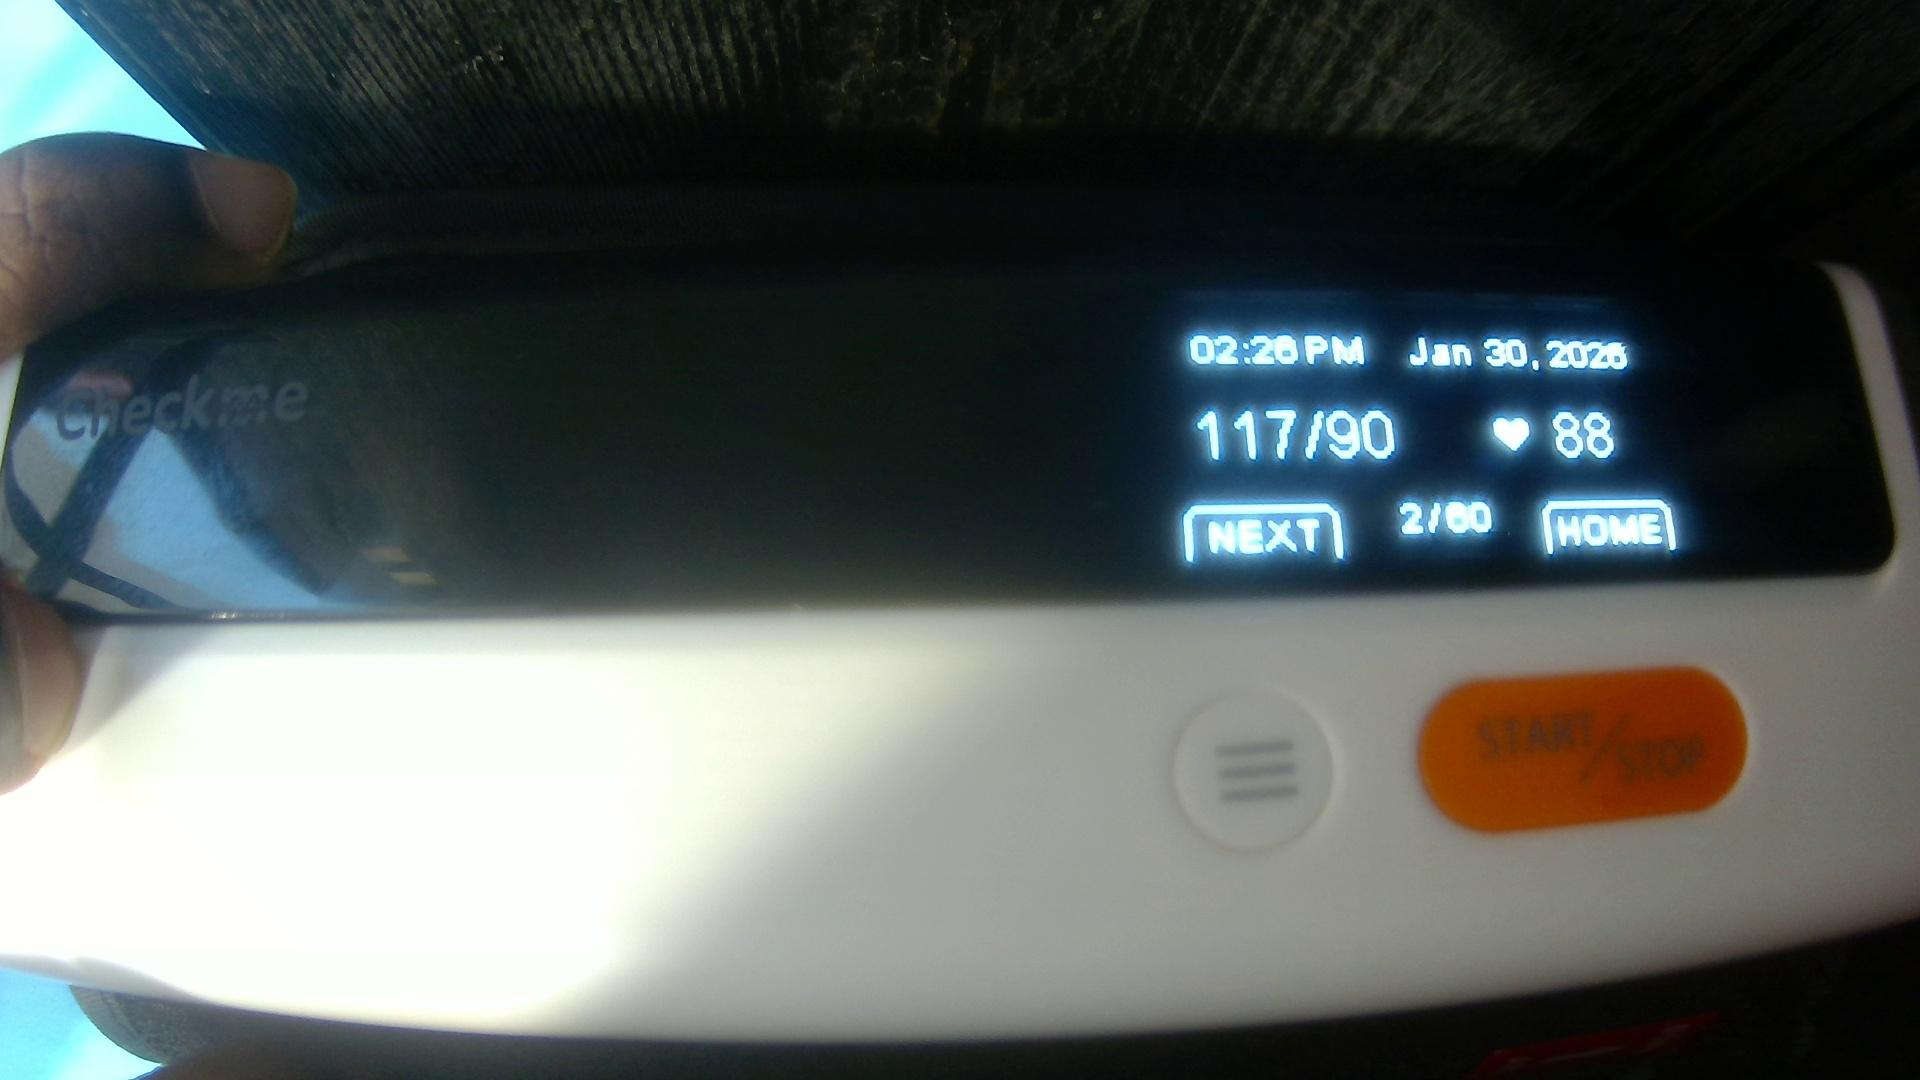DISPLAY: (154, 257, 1895, 621)
